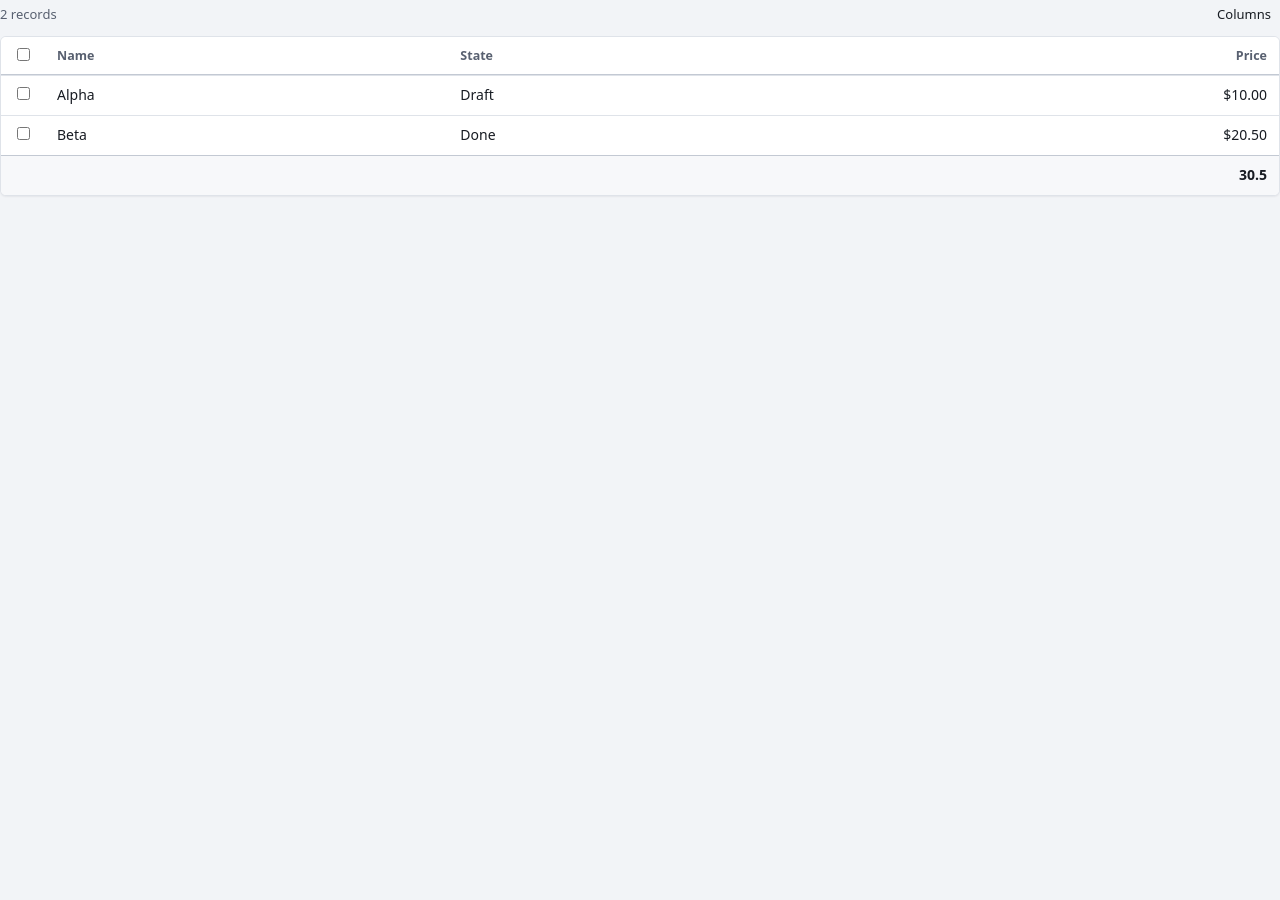
Test: generic views › inline edits a monetary cell and surfaces optimistic-concurrency conflicts (1.2-i)
The image size is (1280, 900).
Double-click the text "Alpha": [247, 95] box [45,75,448,115]
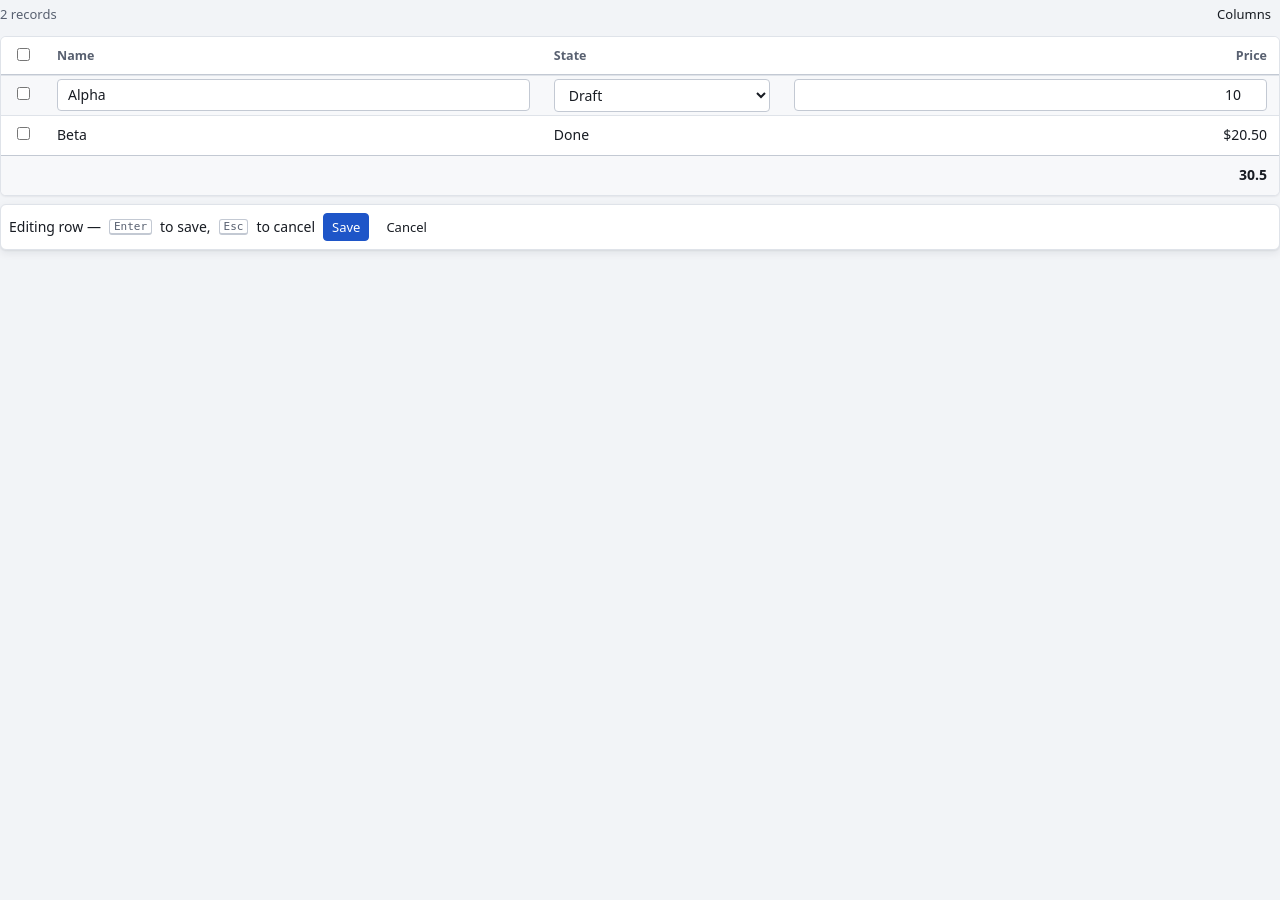
Replace the text in the number field showing "10" with "12.345": [1031, 95] box [794,79,1267,111]
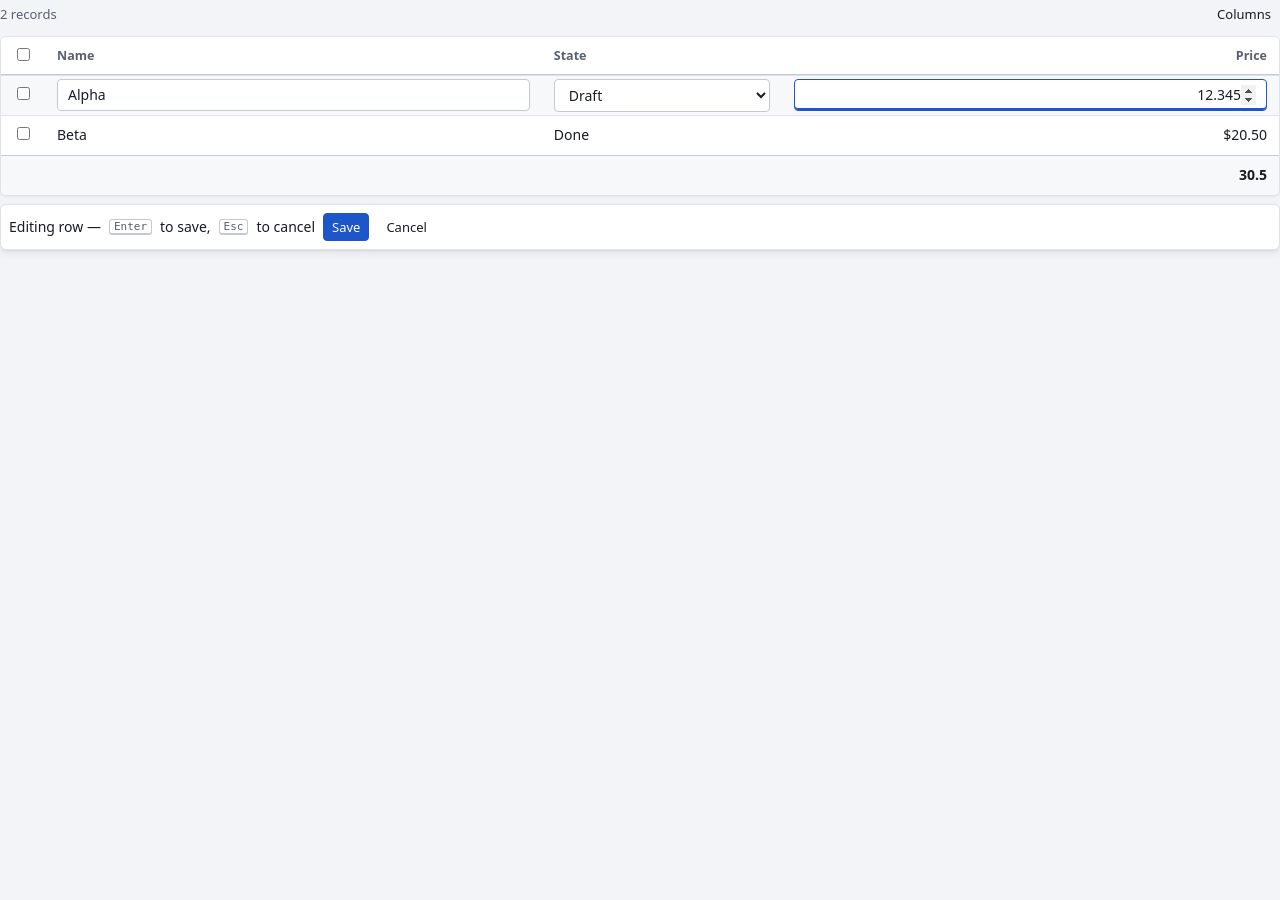
Click the button "Save": [346, 227] box [323,213,369,241]
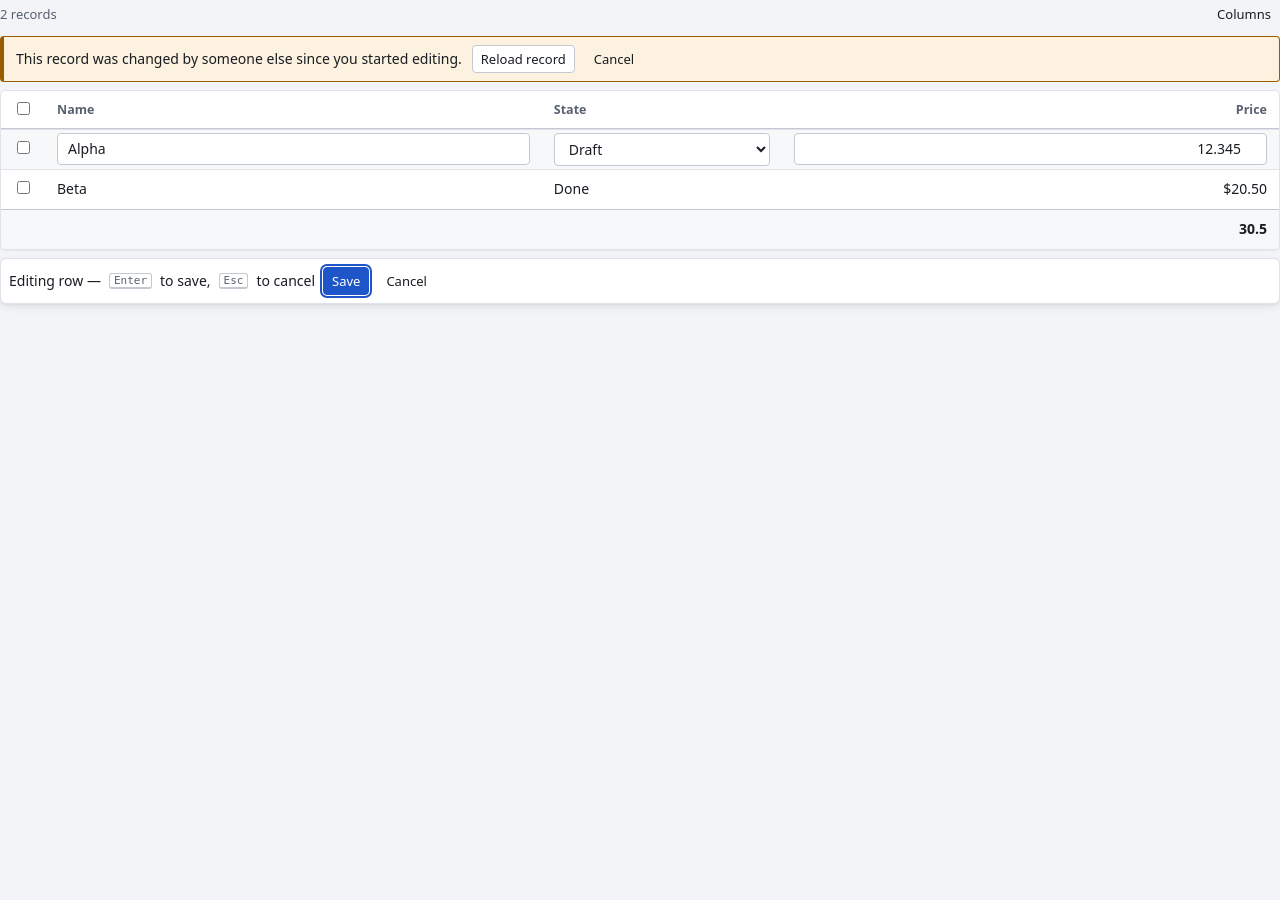
Expected: the dialog named "Edit conflict" is shown, [0,36,1279,82]
